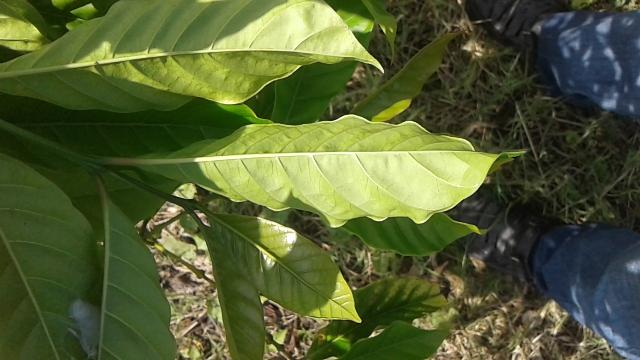healthy: (130, 113, 534, 231)
